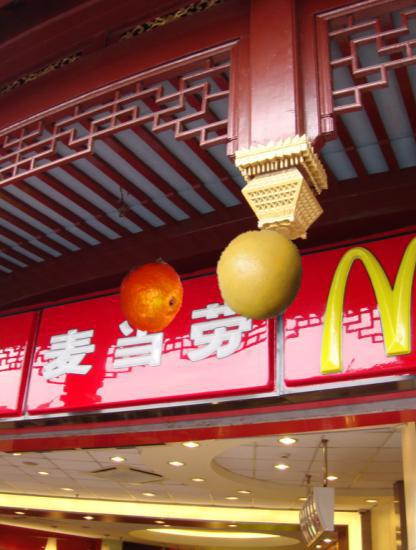Clementine: (113, 256, 189, 332)
Grapefruit: (212, 229, 306, 323)
